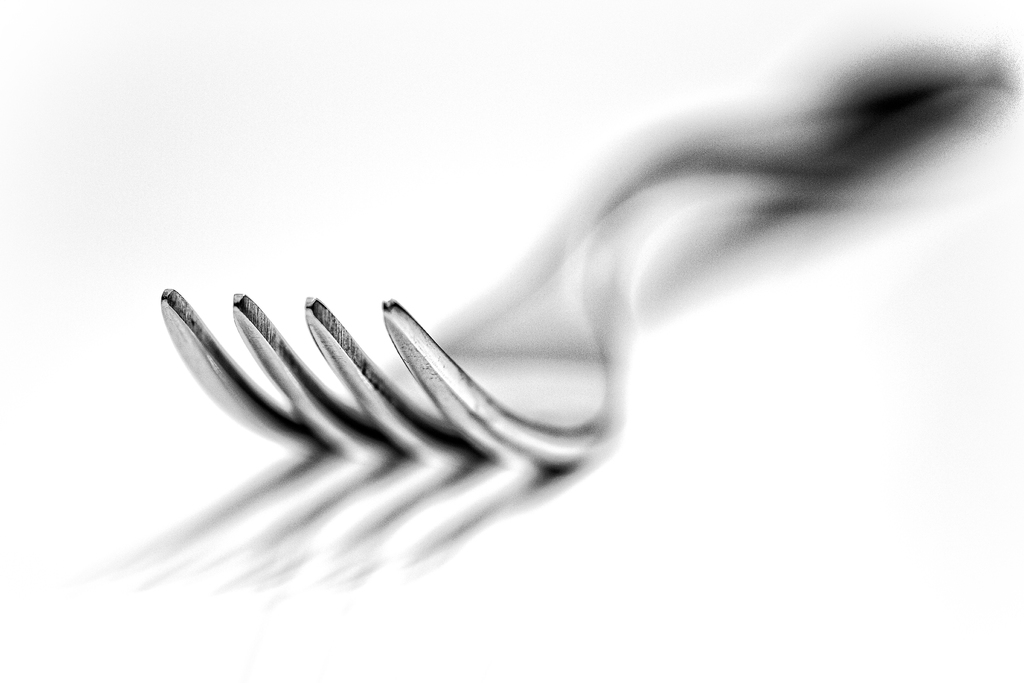fork: (159, 38, 1019, 475)
